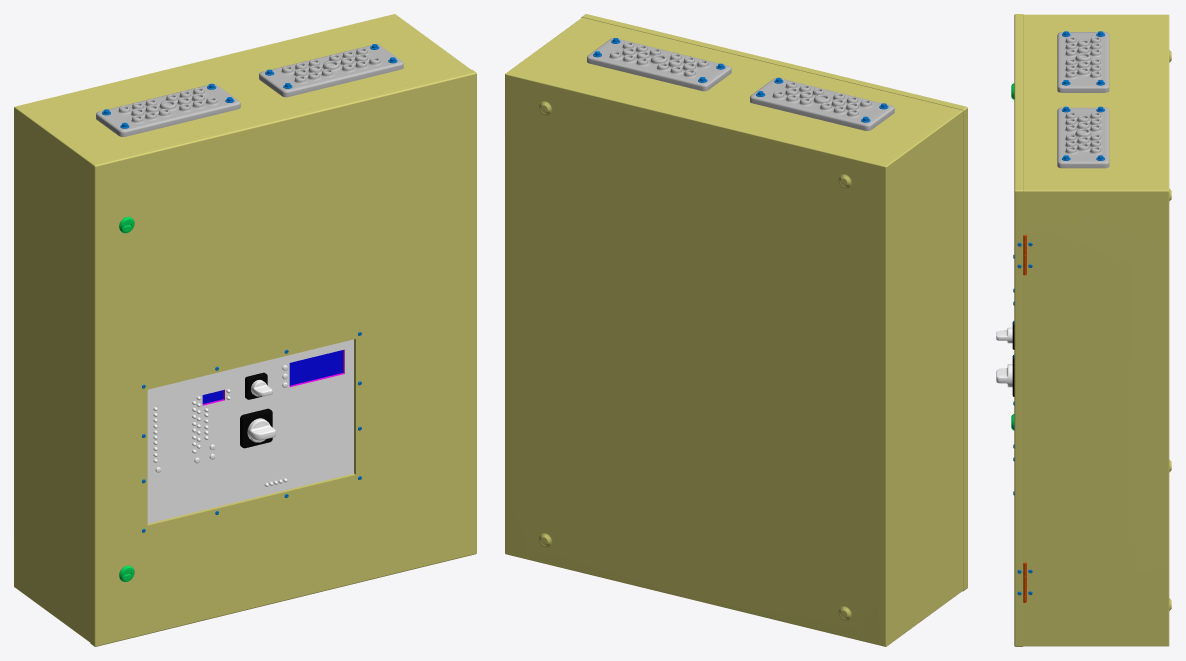
Rendered from Блок управления в сборе.fbx.
3 renders of one model, left to right at view 1: azimuth 30°, elevation 25°; view 2: azimuth 150°, elevation 25°; view 3: azimuth 270°, elevation 25°, orthographic. The views are drawn at different scales.
Visible parts, largest first — view 1: Korpus_block_upravlenia, Panel, Rubber_nakladka; view 2: Korpus_block_upravlenia, Rubber_nakladka; view 3: Korpus_block_upravlenia, Rubber_nakladka, S1_switch.
Part boxes in pixels (left/top/right/bottom): Korpus_block_upravlenia: left=14, top=14, right=476, bottom=646; Panel: left=147, top=339, right=353, bottom=523; Rubber_nakladka: left=96, top=44, right=403, bottom=136; Korpus_block_upravlenia: left=505, top=14, right=967, bottom=646; Rubber_nakladka: left=587, top=38, right=894, bottom=130; Korpus_block_upravlenia: left=1011, top=14, right=1171, bottom=646; Rubber_nakladka: left=1057, top=31, right=1109, bottom=168; S1_switch: left=996, top=364, right=1012, bottom=387.
Size of the model in its own units: 69.41 by 84.84 by 29.01.
